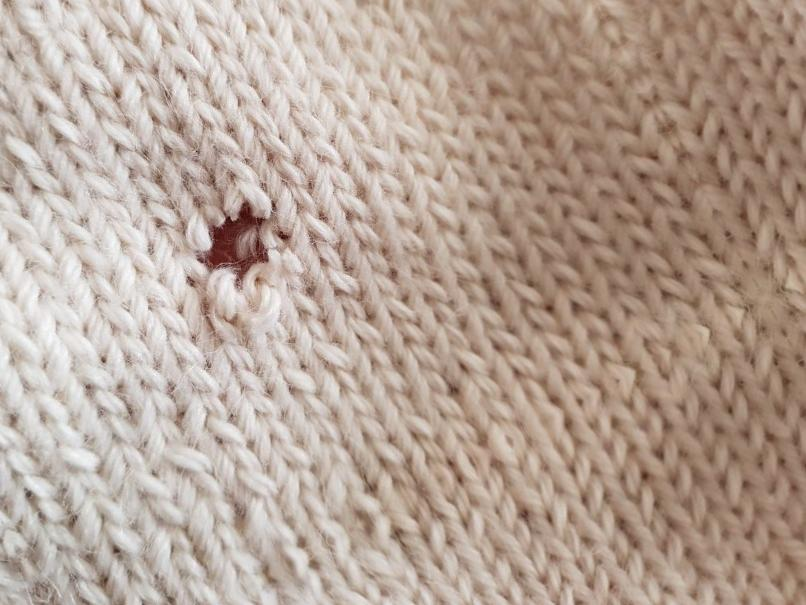hole: (198, 192, 292, 289)
